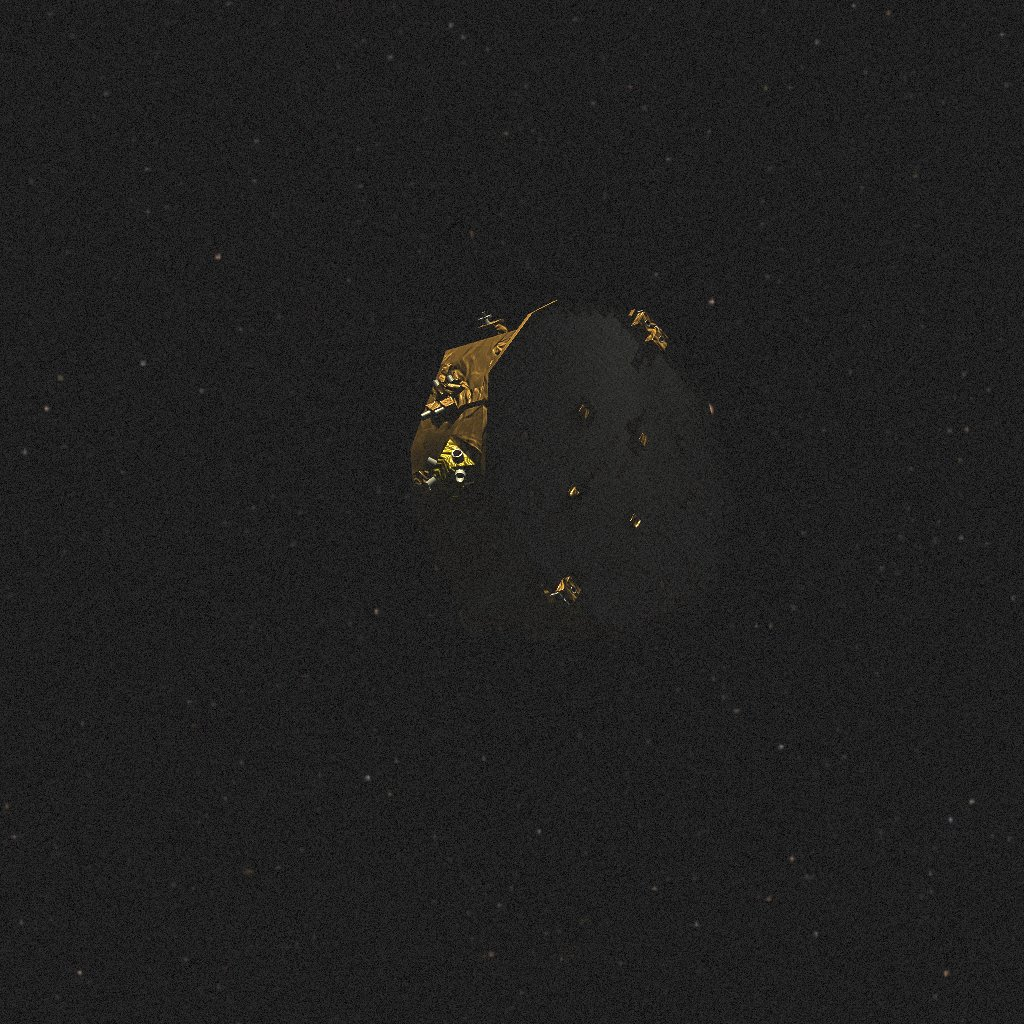lisa_pathfinder: (410, 300, 735, 645)
